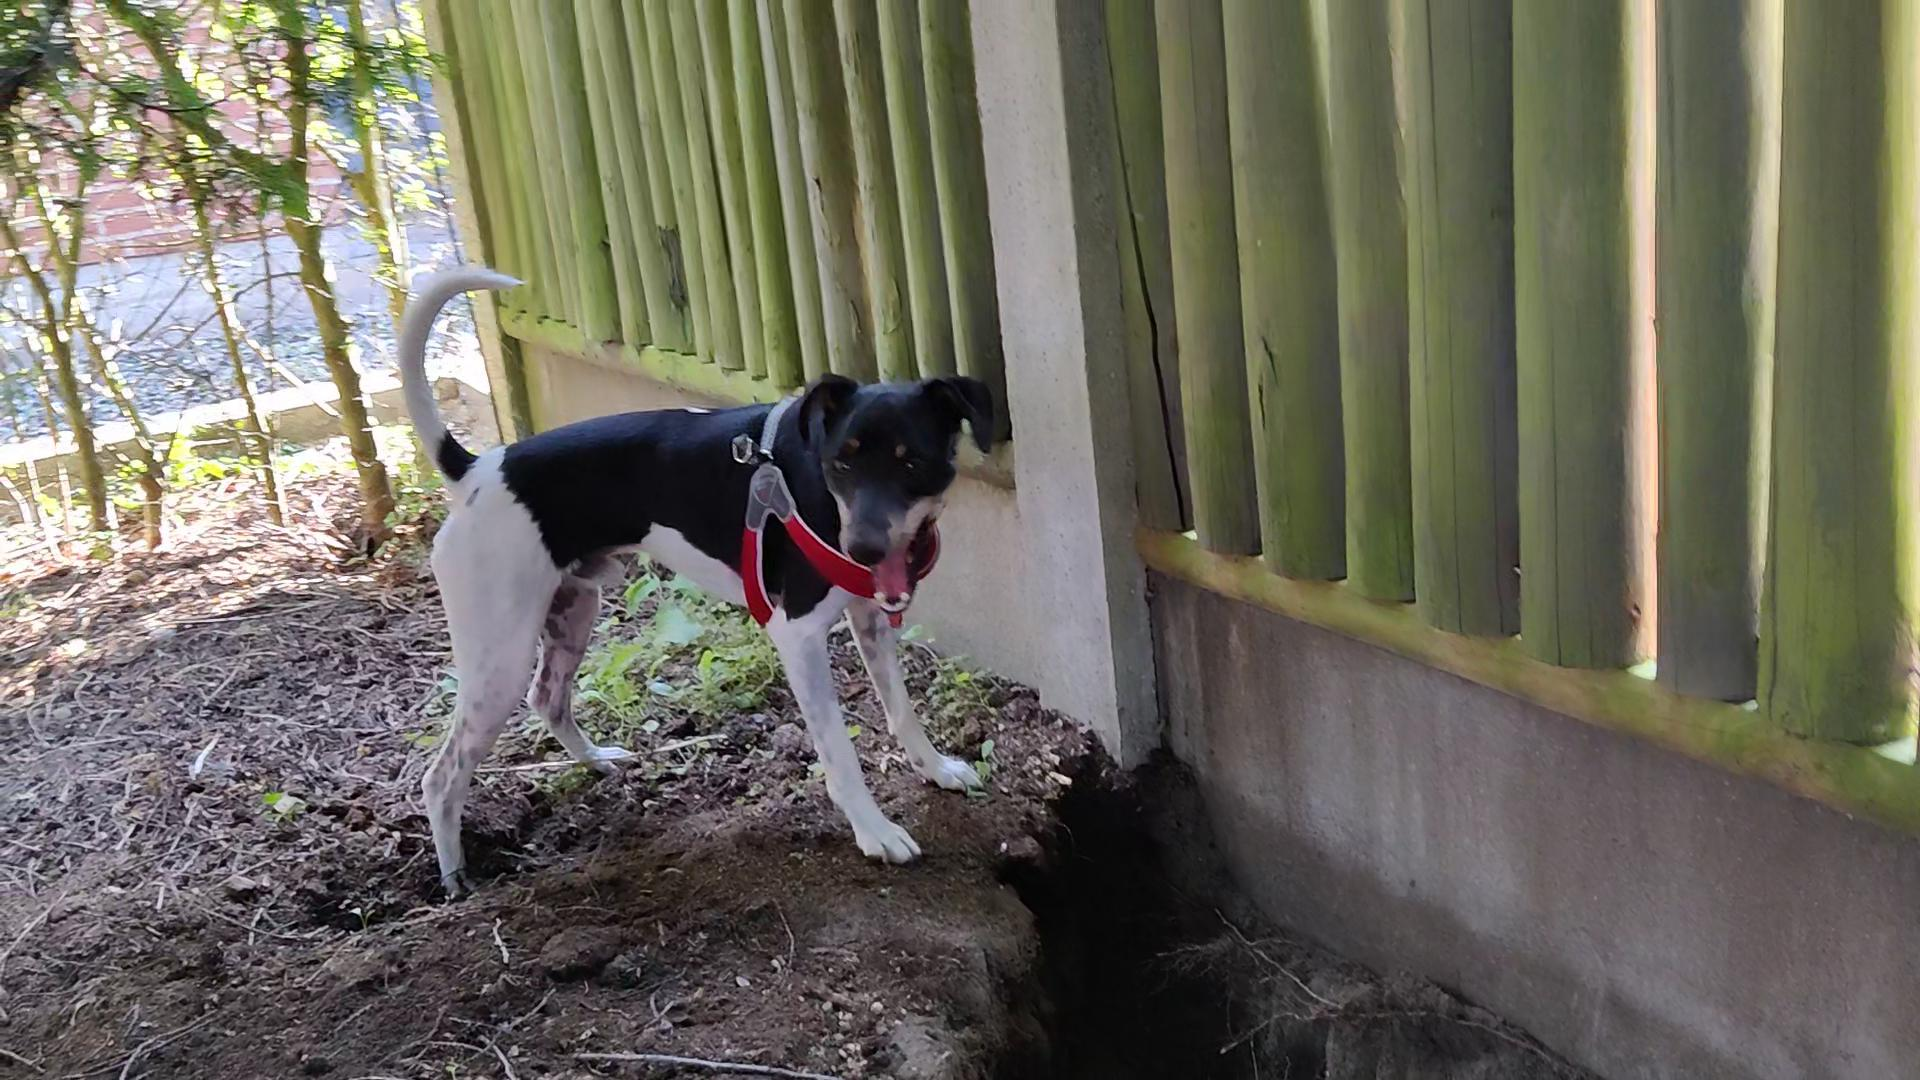Dog: (359, 240, 1002, 891)
